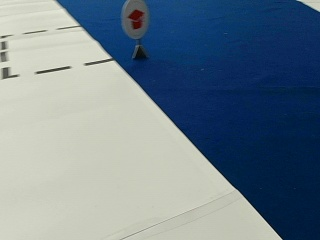school: (121, 1, 149, 37)
